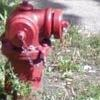Hydrant: (3, 0, 72, 97)
